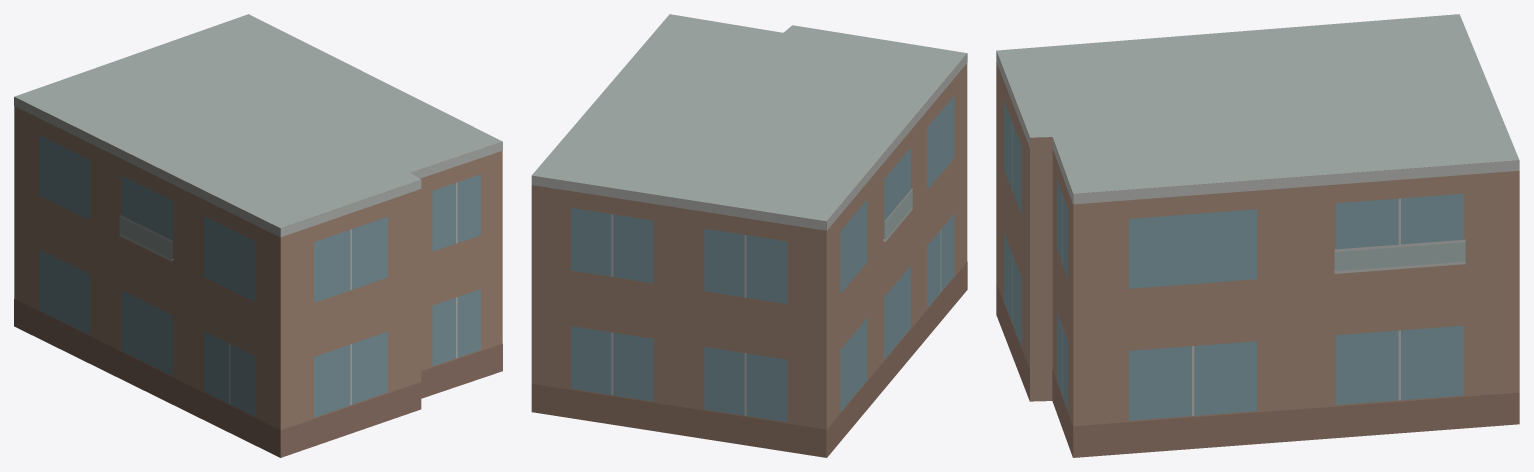
File: survey-upis-32547585.glb
The picture shows the model from 3 angles, left to right: view 1: azimuth 30°, elevation 25°; view 2: azimuth 150°, elevation 25°; view 3: azimuth 270°, elevation 25°; orthographic projection. The views are drawn at different scales.
Visible parts, largest first — view 1: survey-upis-32547585.tmp; view 2: survey-upis-32547585.tmp; view 3: survey-upis-32547585.tmp.
Part boxes in pixels (x1,y1,x2,y2): survey-upis-32547585.tmp: [14, 14, 502, 457]; survey-upis-32547585.tmp: [531, 14, 967, 457]; survey-upis-32547585.tmp: [996, 14, 1519, 457].
Bounding box in the file's own units: 8.92 × 6.1 × 10.97.
